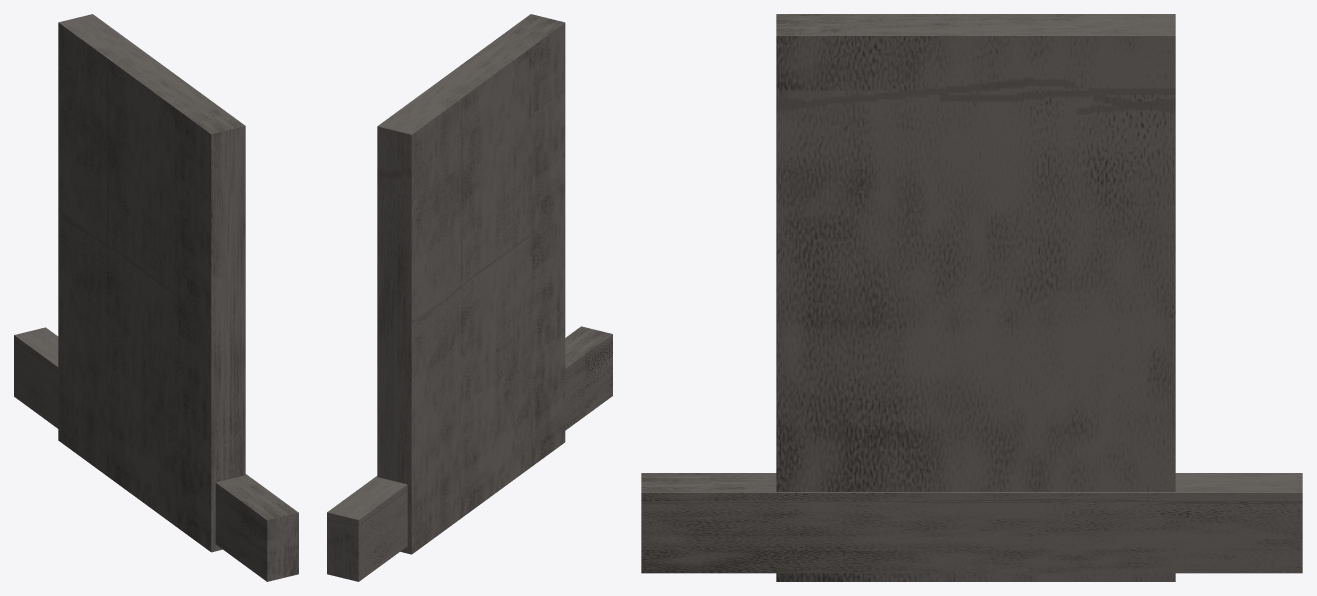
Rendered from SM_cemblockBL.fbx.
The picture shows the model from 3 angles, left to right: view 1: azimuth 30°, elevation 25°; view 2: azimuth 150°, elevation 25°; view 3: azimuth 270°, elevation 25°; orthographic projection. The views are drawn at different scales.
Visible parts, largest first — view 1: SM_shortLong; view 2: SM_shortLong; view 3: SM_shortLong.
Boxes of the visible parts, x1,y1,x2,y2 form: SM_shortLong: (14,14,298,581); SM_shortLong: (327,14,612,581); SM_shortLong: (641,14,1302,581).
Bounding box in the file's own units: 43.18 × 481 × 527.
